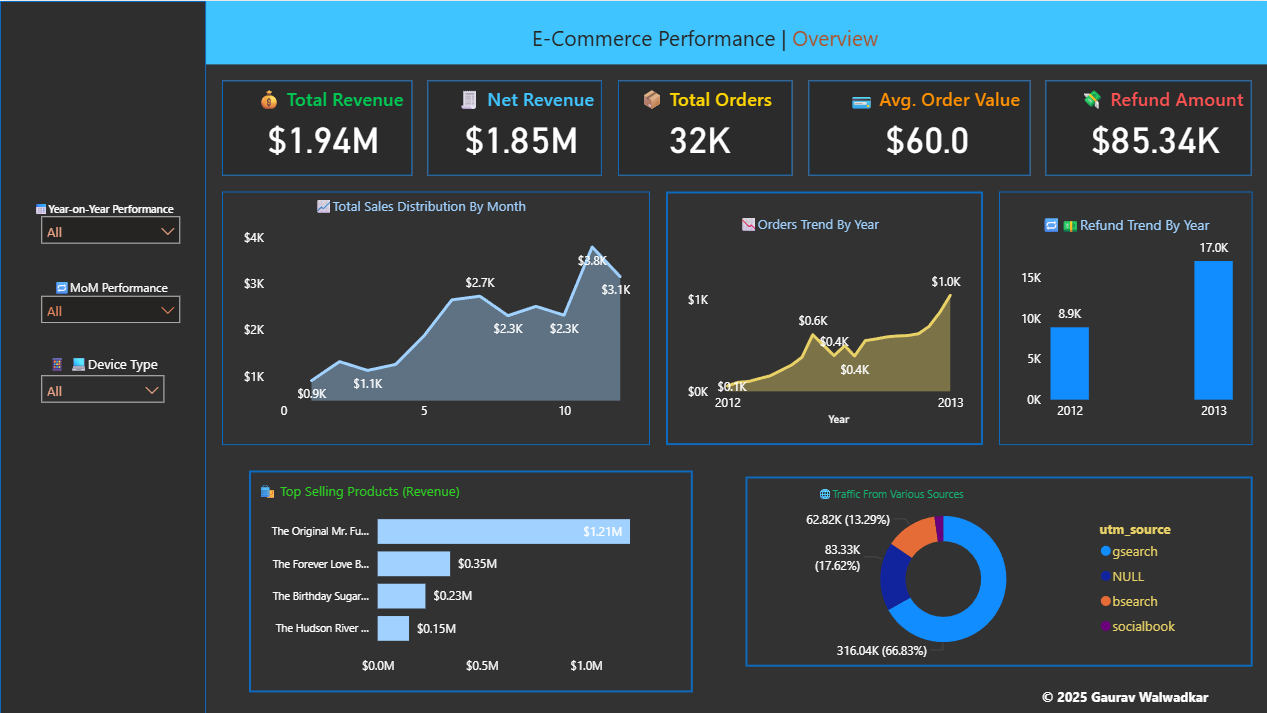

Layout of this report page (visuals, bound fields, positions):
{"tool":"powerbi","page":{"name":"E - Commerce Performance Overview","canvas":[1280,720],"ordinal":0},"visuals":[{"type":"shape","box":[224,80,192,96],"z":0,"group":"g1"},{"type":"shape","box":[432,80,176,96],"z":0,"group":"g2"},{"type":"shape","box":[624,80,176,96],"z":0,"group":"g3"},{"type":"shape","box":[816,80,224,96],"z":0,"group":"g4"},{"type":"shape","box":[1056,80,208,96],"z":0,"group":"g5"},{"type":"shape","box":[752,480,512,192],"z":0},{"type":"shape","box":[208,0,1072,64],"z":1000},{"type":"textbox","box":[249.6,80,166.4,80],"z":1000,"group":"g1"},{"type":"textbox","box":[455.5,80,152.5,80],"z":1000,"group":"g2"},{"type":"textbox","box":[635.7,80,152.5,80],"z":1000,"group":"g3"},{"type":"textbox","box":[845.9,80,194.1,80],"z":1000,"group":"g4"},{"type":"textbox","box":[1083.7,80,180.3,80],"z":1000,"group":"g5"},{"type":"textbox","box":[512,16,400,48],"z":2000},{"type":"card","fields":{"Values":["Measure.Total Revenue"]},"box":[236.8,96,179.2,80],"z":2000,"group":"g1"},{"type":"card","fields":{"Values":["Measure.Net Revenue"]},"box":[443.7,96,164.3,80],"z":2000,"group":"g2"},{"type":"card","fields":{"Values":["Measure.Total Orders"]},"box":[624,96,164.3,80],"z":2000,"group":"g3"},{"type":"card","fields":{"Values":["Measure.Average Orders Value"]},"box":[830.9,96,209.1,80],"z":2000,"group":"g4"},{"type":"card","fields":{"Values":["Measure.Refund Amount"]},"box":[1069.9,96,194.1,80],"z":2000,"group":"g5"},{"type":"group","id":"g1","title":"Group 1","box":[224,80,192,96],"z":3000},{"type":"group","id":"g2","title":"Group 1","box":[432,80,176,96],"z":4000},{"type":"group","id":"g3","title":"Group 1","box":[624,80,192,96],"z":5000},{"type":"group","id":"g4","title":"Group 1","box":[816,80,224,96],"z":6000},{"type":"group","id":"g5","title":"Group 1","box":[1056,80,208,96],"z":7000},{"type":"shape","box":[224,192,432,256],"z":7000,"group":"g7"},{"type":"donutChart","fields":{"Y":["CountNonNull(Dim_WebsiteSessions.website_session_id)"],"Category":["Dim_WebsiteSessions.utm_source"]},"box":[789.5,496,416,176],"z":7000,"group":"g6"},{"type":"shape","box":[0,0,208,720],"z":8000},{"type":"lineChart","fields":{"Y":["Measure.Monthly Revenue"],"Category":["Date.Month No"]},"box":[240,224,400,208],"z":8000,"group":"g7"},{"type":"textbox","box":[304,192,240,32],"z":9000,"group":"g7"},{"type":"slicer","fields":{"Values":["Date.Year"]},"box":[32,208,160,48],"z":9000},{"type":"textbox","box":[16,176,176,48],"z":10000},{"type":"shape","box":[672,192,320,256],"z":10000,"group":"g8"},{"type":"lineChart","fields":{"Y":["Measure.Orders Over Time"],"Category":["Date.Date.Variation.Date Hierarchy.Year","Date.Date.Variation.Date Hierarchy.Month"]},"box":[688,240,288,192],"z":11000,"group":"g8"},{"type":"textbox","box":[32,256,160,48],"z":11000},{"type":"textbox","box":[688,192,256,48],"z":12000,"group":"g8"},{"type":"slicer","fields":{"Values":["Date.Month"]},"box":[32,288,160,48],"z":12000},{"type":"shape","box":[1008,192,256,256],"z":13000,"group":"g9"},{"type":"slicer","fields":{"Values":["Dim_WebsiteSessions.device_type"]},"box":[32,368,144,48],"z":13000},{"type":"textbox","box":[1040,192,192,64],"z":14000,"group":"g9"},{"type":"textbox","box":[32,352,144,32],"z":14000},{"type":"columnChart","fields":{"Category":["Date.Date.Variation.Date Hierarchy.Year","Date.Date.Variation.Date Hierarchy.Quarter","Date.Date.Variation.Date Hierarchy.Month","Date.Date.Variation.Date Hierarchy.Day"],"Y":["Measure.Refunds Over Time"]},"box":[1024,224,224,208],"z":15000,"group":"g9"},{"type":"shape","box":[250.9,474.5,448,224],"z":15000},{"type":"group","id":"g6","title":"Group 3","box":[789.5,464,416,208],"z":16000},{"type":"clusteredBarChart","fields":{"Category":["Dim_Products.product_name"],"Y":["Measure.Total Revenue"]},"box":[256,496,448,192],"z":17000},{"type":"group","id":"g7","title":"Group 4","box":[224,192,432,256],"z":18000},{"type":"textbox","box":[821.5,464,224,48],"z":18009,"group":"g6"},{"type":"textbox","box":[256,480,304,32],"z":19000},{"type":"group","id":"g8","title":"Group 5","box":[672,192,320,256],"z":20000},{"type":"group","id":"g9","title":"Group 6","box":[1008,192,256,256],"z":21000},{"type":"textbox","box":[992,688,288,32],"z":22000}]}

Visuals, with their boxes in screenshot pixels (x1, y1, x2, y2), scaled from the page's 1280x720 canvas onto the 1267x713 screenshot:
shape: 222,79,412,174
shape: 428,79,602,174
shape: 618,79,792,174
shape: 808,79,1029,174
shape: 1045,79,1251,174
shape: 744,475,1251,665
shape: 206,0,1266,63
textbox: 247,79,412,158
textbox: 451,79,602,158
textbox: 629,79,780,158
textbox: 837,79,1029,158
textbox: 1073,79,1251,158
textbox: 507,16,903,63
card - Measure.Total Revenue: 234,95,412,174
card - Measure.Net Revenue: 439,95,602,174
card - Measure.Total Orders: 618,95,780,174
card - Measure.Average Orders Value: 822,95,1029,174
card - Measure.Refund Amount: 1059,95,1251,174
"Group 1" group: 222,79,412,174
"Group 1" group: 428,79,602,174
"Group 1" group: 618,79,808,174
"Group 1" group: 808,79,1029,174
"Group 1" group: 1045,79,1251,174
shape: 222,190,649,444
donutChart - CountNonNull(Dim_WebsiteSessions.website_session_id) x Dim_WebsiteSessions.utm_source: 781,491,1193,665
shape: 0,0,206,712
lineChart - Measure.Monthly Revenue x Date.Month No: 238,222,634,428
textbox: 301,190,538,222
slicer - Date.Year: 32,206,190,254
textbox: 16,174,190,222
shape: 665,190,982,444
lineChart - Measure.Orders Over Time x Date.Date.Variation.Date Hierarchy.Year: 681,238,966,428
textbox: 32,254,190,301
textbox: 681,190,934,238
slicer - Date.Month: 32,285,190,333
shape: 998,190,1251,444
slicer - Dim_WebsiteSessions.device_type: 32,364,174,412
textbox: 1029,190,1219,254
textbox: 32,349,174,380
columnChart - Date.Date.Variation.Date Hierarchy.Year x Date.Date.Variation.Date Hierarchy.Quarter: 1014,222,1235,428
shape: 248,470,692,692
"Group 3" group: 781,459,1193,665
clusteredBarChart - Dim_Products.product_name x Measure.Total Revenue: 253,491,697,681
"Group 4" group: 222,190,649,444
textbox: 813,459,1035,507
textbox: 253,475,554,507
"Group 5" group: 665,190,982,444
"Group 6" group: 998,190,1251,444
textbox: 982,681,1266,712
